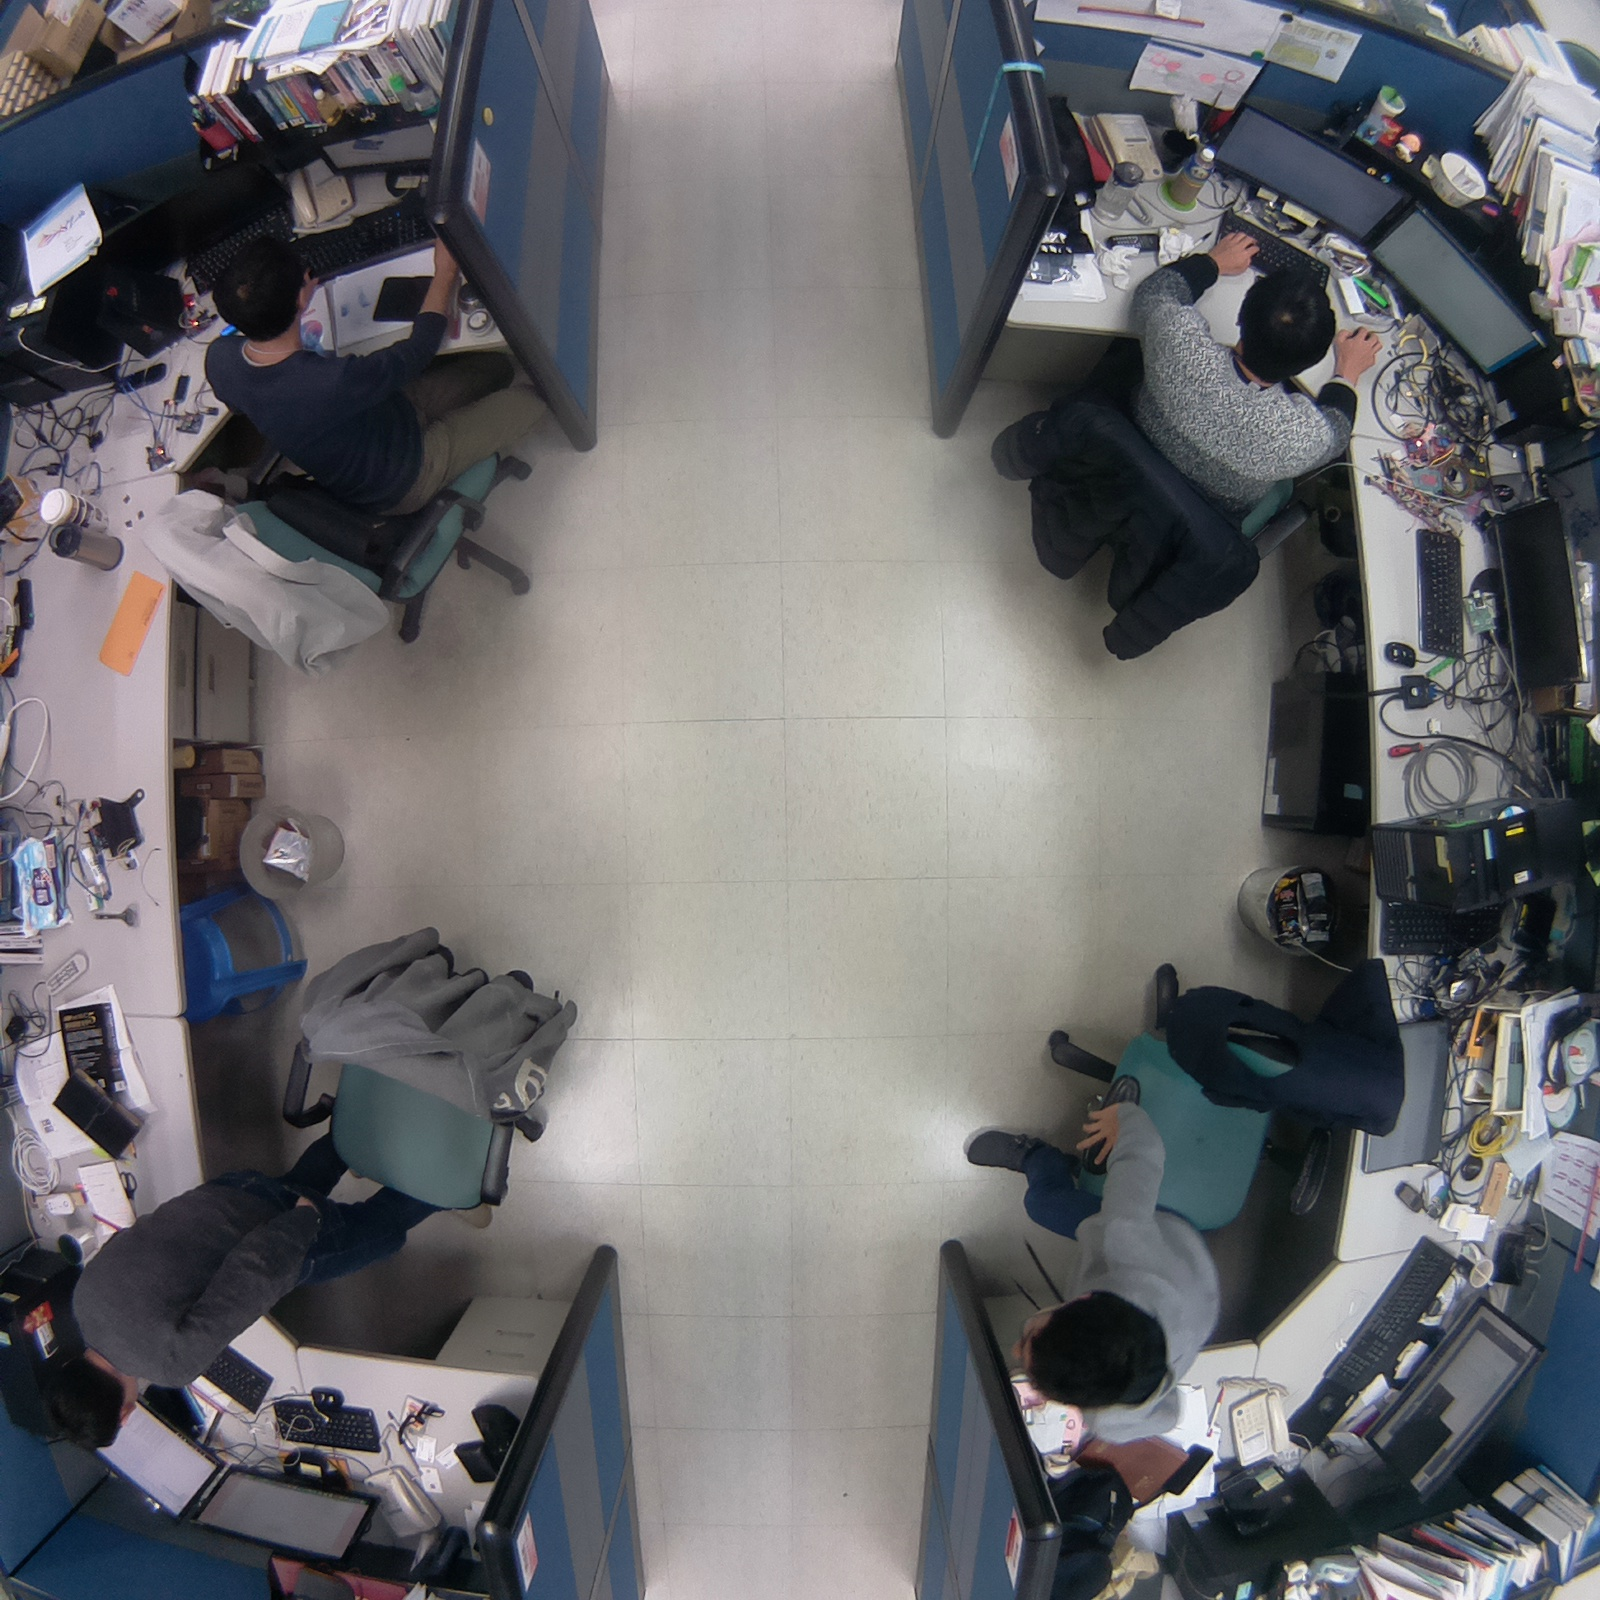chair: (255, 914, 612, 1237)
head: (1017, 1278, 1170, 1425), (8, 1323, 144, 1465), (1229, 257, 1344, 387), (206, 234, 321, 338)
sitting: (127, 231, 573, 683), (970, 223, 1385, 678)
standing: (947, 958, 1412, 1464), (1, 1124, 509, 1465)
